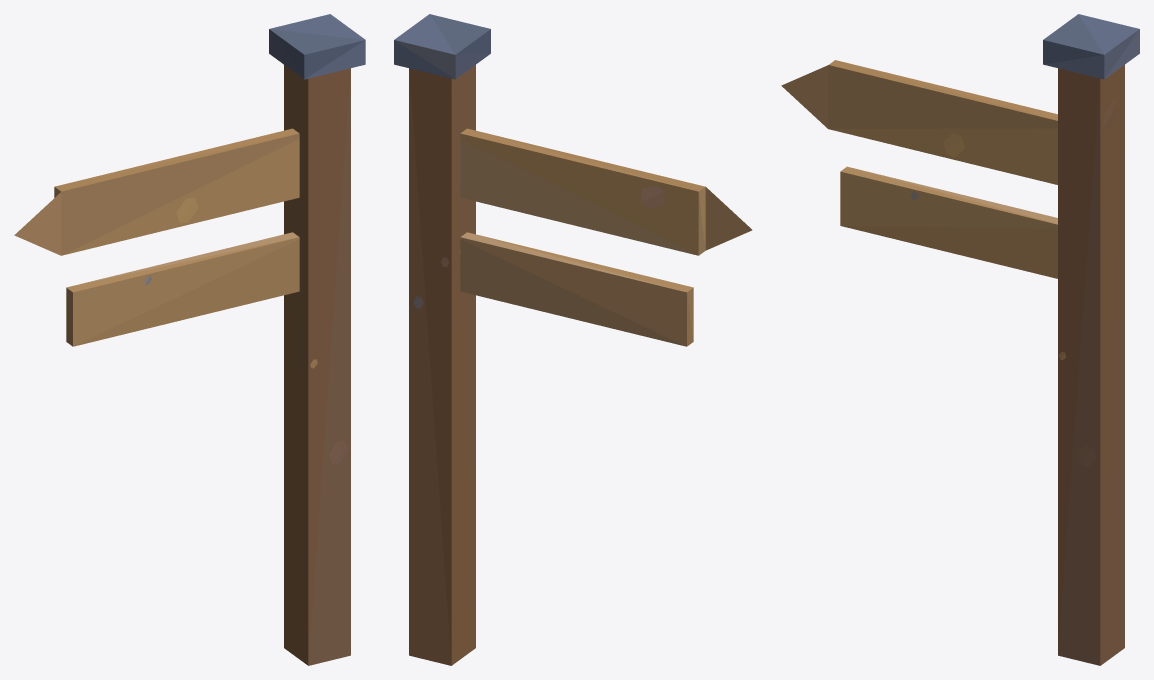
File: HK_GuidePost.glb
3 views of the same model, side by side, from view 1: azimuth 30°, elevation 25°; view 2: azimuth 150°, elevation 25°; view 3: azimuth 330°, elevation 25° (orthographic).
Parts seen in each view (by area): view 1: HK_GuidePost; view 2: HK_GuidePost; view 3: HK_GuidePost.
Boxes of the visible parts, x1=… form: HK_GuidePost: x1=14, y1=14, x2=365, y2=665; HK_GuidePost: x1=394, y1=14, x2=752, y2=665; HK_GuidePost: x1=781, y1=14, x2=1139, y2=665.
Size of the model in its own units: 1.43 by 2.5 by 0.26.
